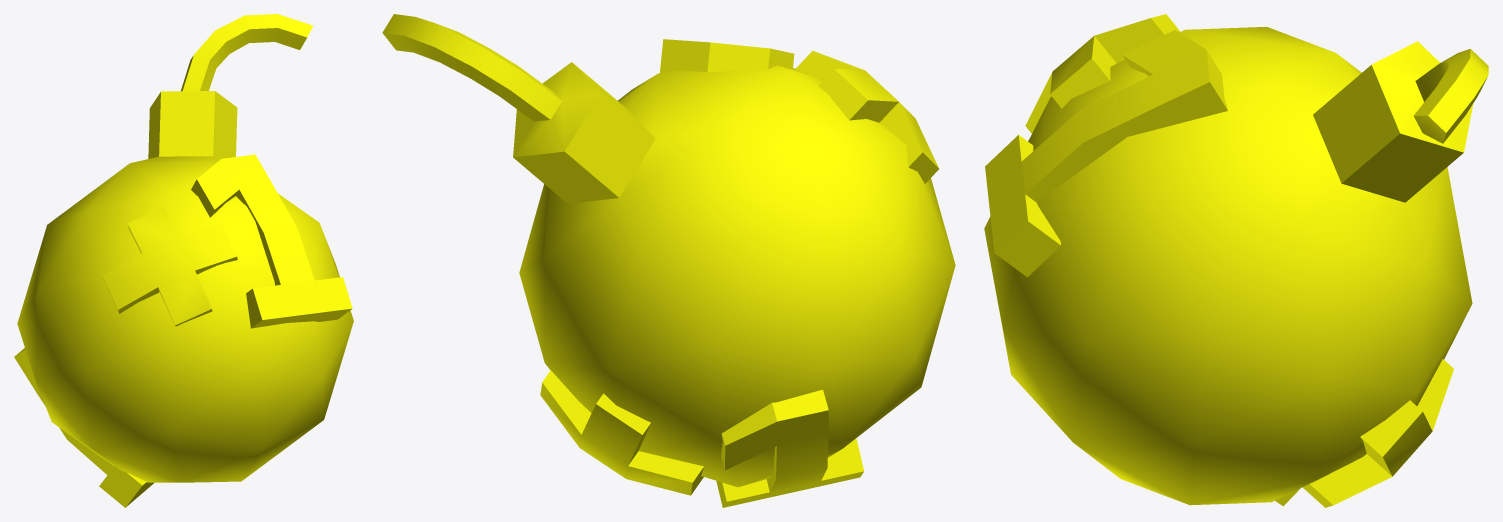
The model's file is extrapomb.glb.
3 views of the same model, side by side, from view 1: azimuth 30°, elevation 25°; view 2: azimuth 150°, elevation 25°; view 3: azimuth 270°, elevation 25° (orthographic). The views are drawn at different scales.
Parts seen in each view (by area): view 1: extrapomb; view 2: extrapomb; view 3: extrapomb.
Part boxes in pixels (x1,y1,x2,y2): extrapomb: (14, 14, 353, 507); extrapomb: (382, 14, 955, 507); extrapomb: (984, 14, 1488, 507).
Size of the model in its own units: 0.6163 by 0.653 by 0.5383.
1 material, 1 textured.
